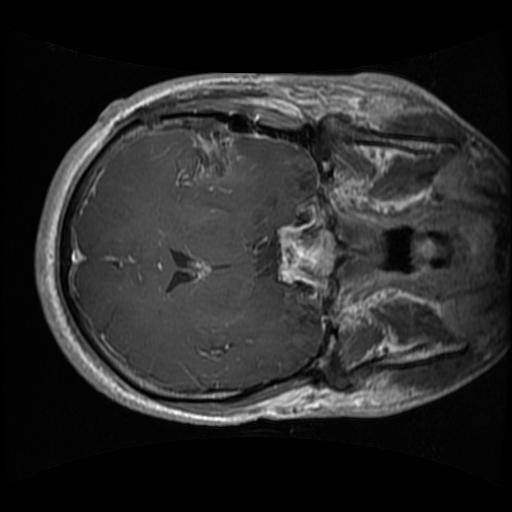glioma: (170, 121, 248, 193)
